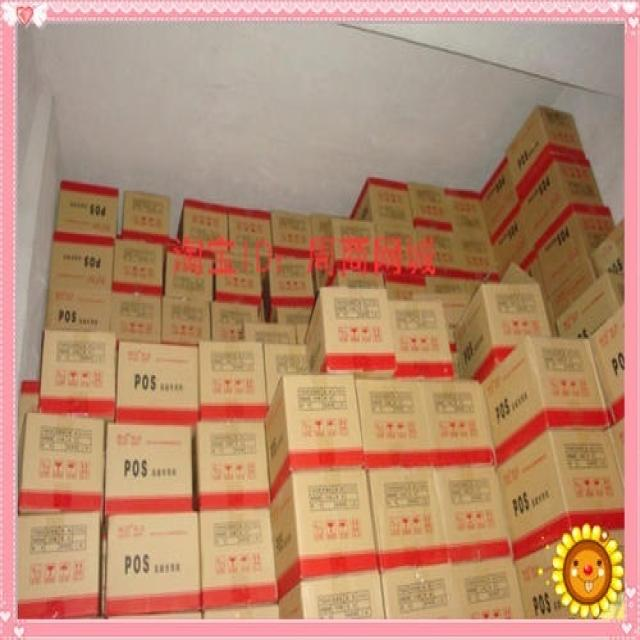box: (497, 428, 625, 559), (481, 339, 609, 465), (270, 468, 379, 599), (265, 375, 364, 499), (454, 265, 552, 384), (105, 514, 201, 618), (515, 532, 625, 619), (17, 514, 101, 621), (18, 413, 104, 513), (367, 468, 447, 569), (105, 423, 193, 514), (517, 153, 604, 244), (200, 511, 278, 612), (305, 287, 396, 373), (532, 206, 616, 299), (434, 465, 512, 564), (503, 107, 585, 193), (357, 377, 433, 468), (115, 342, 198, 425), (38, 329, 116, 416), (197, 423, 270, 513), (425, 378, 495, 466), (388, 299, 456, 382), (198, 342, 268, 422), (278, 571, 384, 619), (451, 556, 525, 623), (585, 306, 623, 427), (381, 563, 458, 621), (556, 275, 625, 339), (54, 179, 119, 239), (50, 234, 114, 291), (489, 203, 534, 279), (349, 177, 413, 227), (480, 157, 518, 234), (46, 287, 110, 332), (264, 344, 308, 409), (175, 200, 228, 253), (113, 241, 163, 296), (122, 189, 170, 246), (548, 262, 595, 318), (165, 248, 212, 301), (161, 298, 211, 346), (216, 253, 262, 305), (333, 220, 376, 274), (110, 296, 160, 342), (408, 181, 452, 232), (269, 258, 315, 306), (375, 224, 419, 274), (453, 231, 498, 279), (229, 206, 271, 256), (416, 229, 457, 277), (444, 188, 488, 232), (593, 218, 625, 277), (211, 305, 261, 342), (273, 210, 311, 258), (312, 213, 351, 258), (385, 274, 428, 299), (243, 325, 296, 344), (325, 272, 384, 289), (428, 277, 462, 306), (270, 306, 314, 325)
